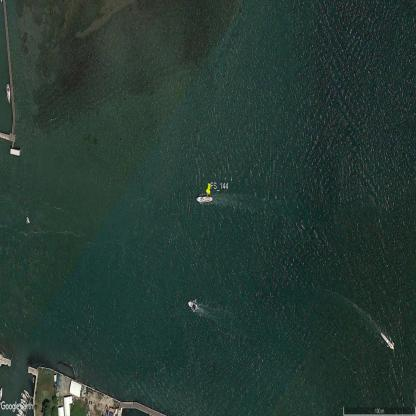ship: (380, 332, 394, 350), (195, 195, 213, 202), (188, 301, 197, 312), (6, 84, 10, 104), (21, 393, 28, 404), (18, 403, 26, 412), (23, 389, 30, 399), (20, 398, 27, 408), (17, 409, 24, 416), (0, 387, 3, 401)
